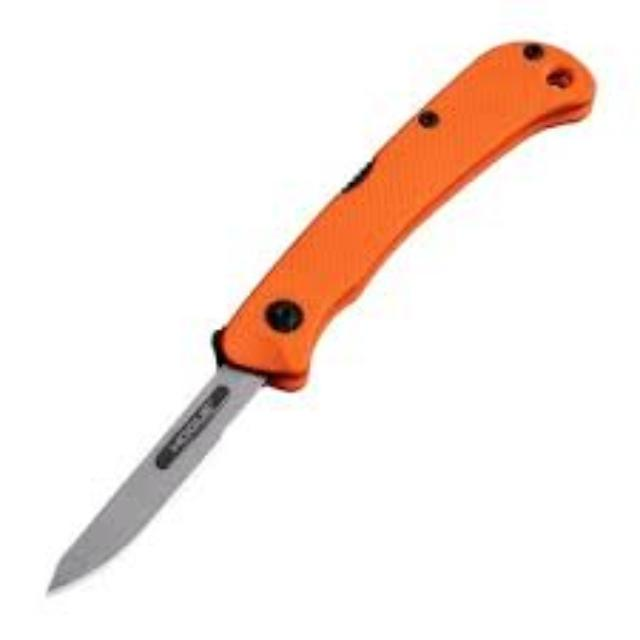Knife: (43, 38, 594, 594)
